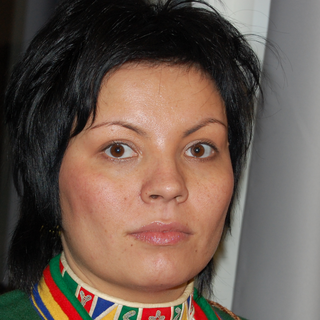eye: (91, 136, 148, 167), (176, 136, 224, 164)
